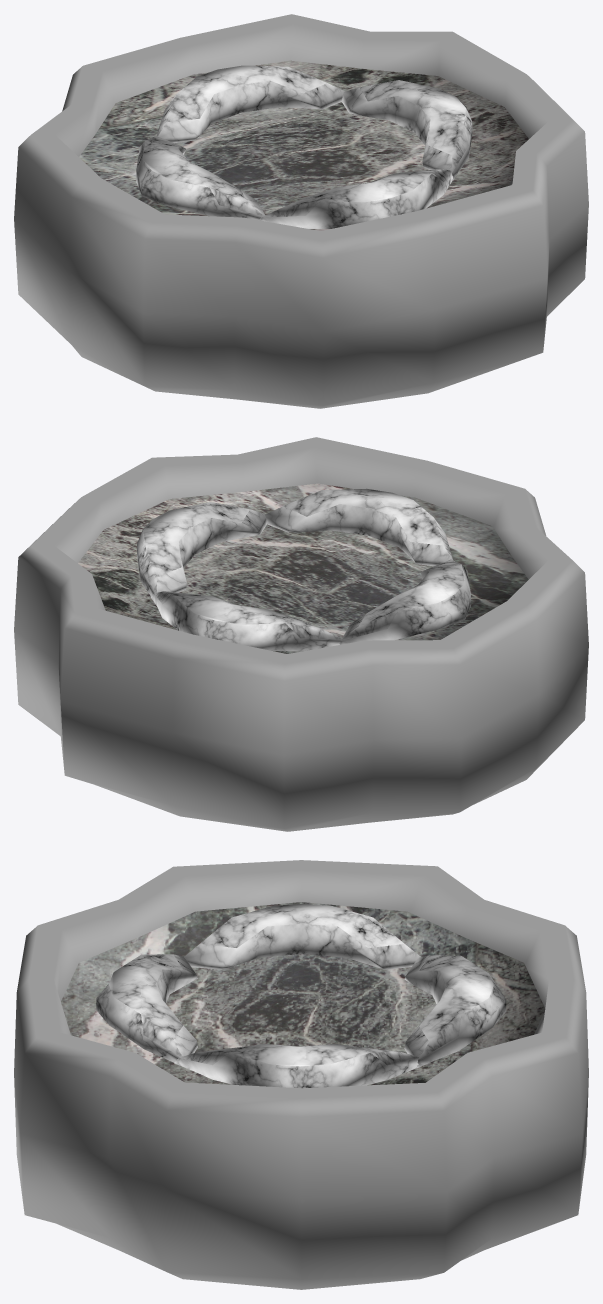
The model's file is o_piece.fbx.
3 renders of one model, top to bottom at view 1: azimuth 30°, elevation 25°; view 2: azimuth 150°, elevation 25°; view 3: azimuth 270°, elevation 25°, orthographic. The views are drawn at different scales.
Visible parts, largest first — view 1: polySurface29, polySurface30, polySurface27, polySurface26, polySurface28, polySurface22; view 2: polySurface29, polySurface30, polySurface28, polySurface26, polySurface27, polySurface22; view 3: polySurface29, polySurface30, polySurface22, polySurface26, polySurface27, polySurface28.
Boxes of the visible parts, bbox=[...] form: polySurface29: bbox=[14, 14, 588, 408]; polySurface30: bbox=[79, 60, 528, 230]; polySurface27: bbox=[156, 65, 344, 143]; polySurface26: bbox=[342, 80, 472, 180]; polySurface28: bbox=[259, 169, 452, 228]; polySurface22: bbox=[136, 136, 265, 220]; polySurface29: bbox=[14, 437, 588, 831]; polySurface30: bbox=[78, 483, 528, 653]; polySurface28: bbox=[265, 488, 452, 566]; polySurface26: bbox=[137, 502, 266, 596]; polySurface27: bbox=[151, 591, 342, 651]; polySurface22: bbox=[339, 559, 470, 644]; polySurface29: bbox=[14, 860, 588, 1289]; polySurface30: bbox=[61, 902, 545, 1085]; polySurface22: bbox=[184, 903, 420, 969]; polySurface26: bbox=[174, 1043, 418, 1088]; polySurface27: bbox=[404, 955, 506, 1068]; polySurface28: bbox=[96, 954, 197, 1062].
Size of the model in its own units: 12.57 by 4.51 by 12.13.
